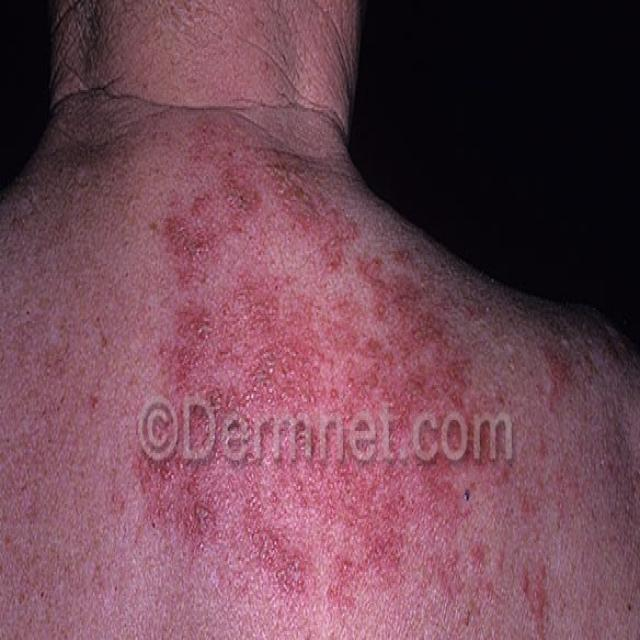Viral Infections: (145, 123, 578, 634)
